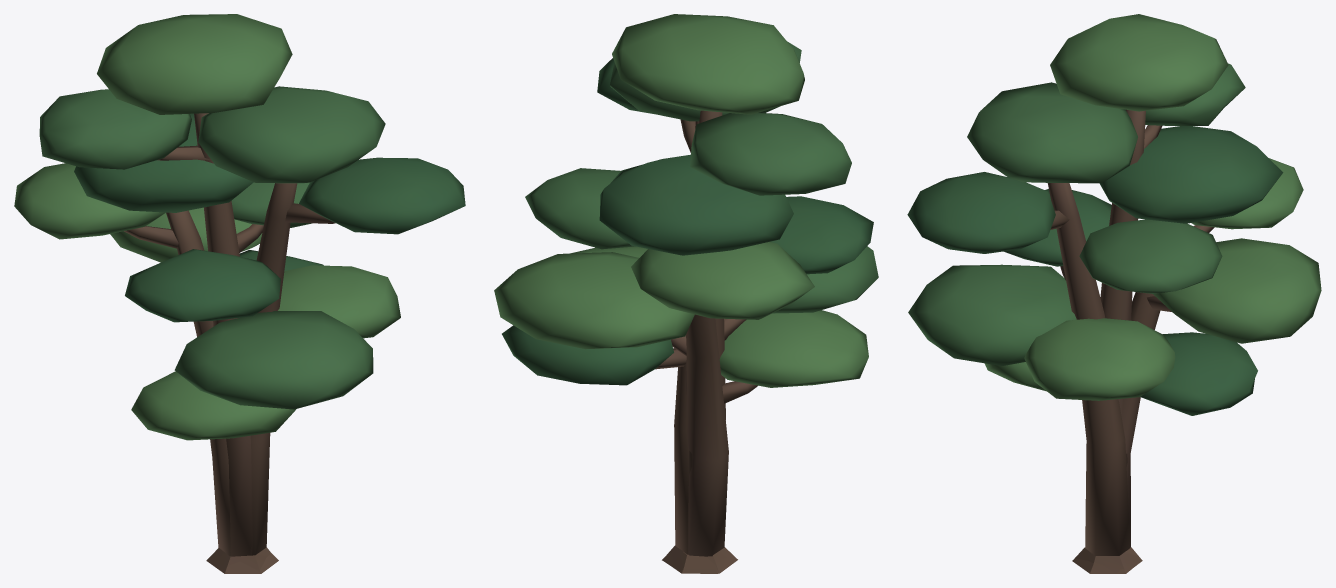
Rendered from tree.pine.glb.
3 renders of one model, left to right at view 1: azimuth 30°, elevation 25°; view 2: azimuth 150°, elevation 25°; view 3: azimuth 270°, elevation 25°, orthographic. The views are drawn at different scales.
Visible parts, largest first — view 1: tree.pine.v2.canopy, tree.pine.v0.canopy, tree.pine.v1.canopy, tree.pine.v2.trunk, tree.pine.v0.trunk, tree.pine.v1.trunk; view 2: tree.pine.v1.canopy, tree.pine.v2.canopy, tree.pine.v0.canopy, tree.pine.v1.trunk, tree.pine.v0.trunk, tree.pine.v2.trunk; view 3: tree.pine.v1.canopy, tree.pine.v2.canopy, tree.pine.v0.canopy, tree.pine.v0.trunk, tree.pine.v1.trunk, tree.pine.v2.trunk.
Boxes of the visible parts, x1,y1,x2,y2 form: tree.pine.v2.canopy: (39, 14, 373, 409); tree.pine.v0.canopy: (125, 86, 465, 322); tree.pine.v1.canopy: (14, 113, 400, 440); tree.pine.v2.trunk: (157, 113, 263, 559); tree.pine.v0.trunk: (224, 183, 335, 573); tree.pine.v1.trunk: (124, 210, 278, 573); tree.pine.v1.canopy: (494, 154, 868, 387); tree.pine.v2.canopy: (525, 14, 878, 313); tree.pine.v0.canopy: (502, 41, 873, 385); tree.pine.v1.trunk: (671, 314, 757, 573); tree.pine.v0.trunk: (655, 119, 737, 573); tree.pine.v2.trunk: (662, 110, 746, 573); tree.pine.v1.canopy: (984, 126, 1321, 400); tree.pine.v2.canopy: (908, 14, 1245, 365); tree.pine.v0.canopy: (907, 82, 1257, 415); tree.pine.v0.trunk: (1047, 183, 1139, 570); tree.pine.v1.trunk: (1072, 225, 1214, 573); tree.pine.v2.trunk: (1100, 109, 1162, 573).
Bounding box in the file's own units: 2.04 × 3.24 × 2.35.
